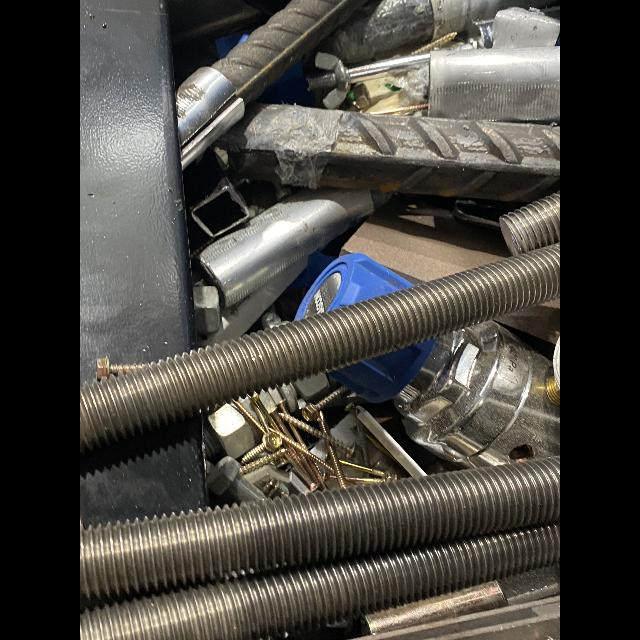Aluminium: (196, 188, 373, 304), (428, 46, 560, 122), (206, 256, 307, 345), (179, 97, 243, 172), (178, 67, 236, 146), (430, 0, 522, 40), (493, 7, 560, 47)
Brass: (547, 376, 560, 405)
Ferrous Metal: (80, 193, 560, 452), (80, 456, 560, 640), (80, 0, 193, 387), (322, 112, 560, 201), (216, 0, 366, 104), (80, 416, 206, 527), (341, 204, 510, 284), (371, 563, 560, 632), (235, 386, 356, 491), (358, 595, 560, 640), (188, 153, 249, 239), (496, 299, 560, 343), (282, 420, 334, 470), (229, 151, 288, 194), (208, 457, 265, 500), (412, 31, 457, 53), (340, 460, 384, 477), (371, 104, 429, 114), (347, 478, 386, 484), (387, 478, 391, 482)
Galvanized Steel: (260, 374, 330, 412), (208, 404, 255, 457), (315, 53, 347, 110), (193, 288, 219, 332), (246, 465, 290, 486)
Stainless Steel: (395, 319, 560, 469), (349, 54, 430, 82), (469, 19, 493, 49), (311, 73, 336, 89)
